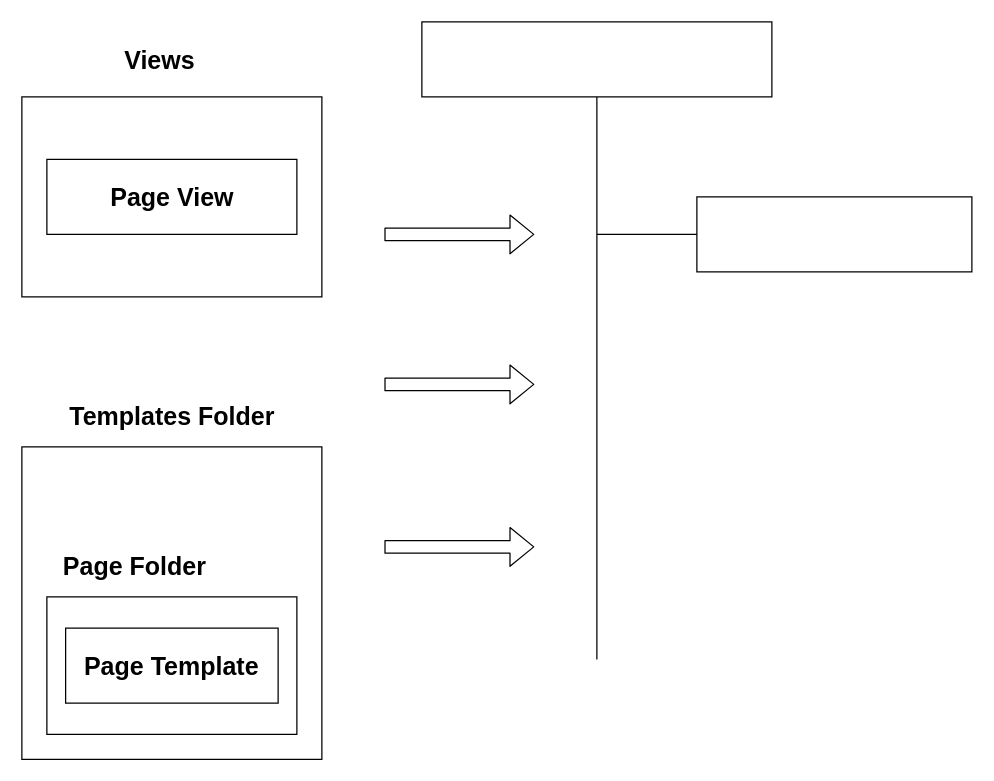
Image size: 994x781. Some labels were removed from this diagram. The centre of each missing label's shape, as x and y in pixels:
Page View(Object): (x=596, y=59)
render("index.html"): (x=834, y=234)
